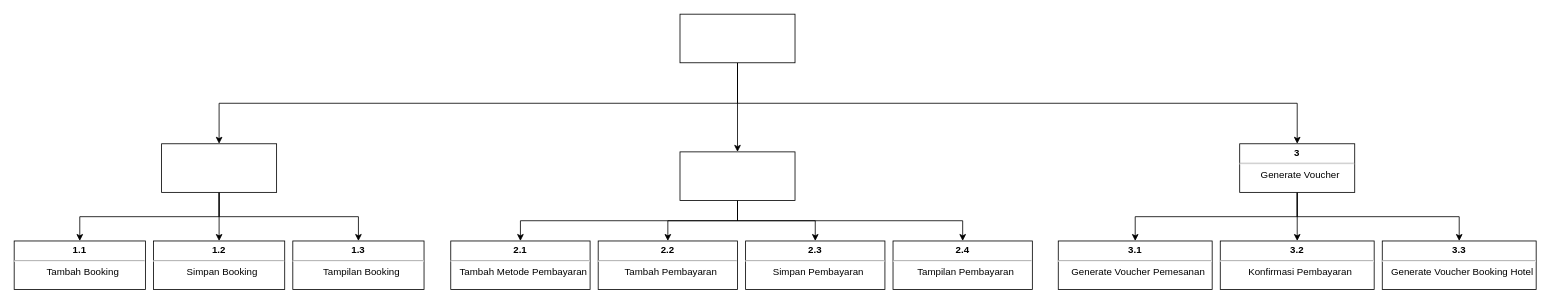
Some shapes in this 1550 by 304 pixel diagram are drawn without their labels. Each missing label, with the centre of its shape:
"0 Tiket.com" goes at point 737,38.
"1 Penentuan Booking" goes at point 219,167.
"2 Penentuan Pembayaran" goes at point 737,175.
